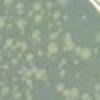white: (45, 43, 59, 56), (81, 47, 94, 60), (33, 68, 49, 78), (70, 87, 80, 100), (11, 87, 21, 99), (64, 33, 73, 46), (33, 14, 43, 25), (63, 88, 72, 100), (1, 86, 11, 96), (54, 83, 65, 92), (24, 71, 35, 80), (59, 69, 66, 82), (57, 59, 67, 68), (26, 80, 35, 89), (32, 30, 41, 39), (38, 8, 47, 17), (0, 16, 6, 29), (26, 53, 35, 61), (33, 3, 42, 11), (16, 9, 25, 17), (5, 38, 14, 46), (81, 92, 89, 100), (11, 58, 19, 66), (46, 1, 54, 9), (16, 2, 25, 9), (30, 65, 38, 72), (16, 51, 23, 59), (53, 10, 61, 17), (46, 23, 53, 31), (6, 24, 14, 31), (91, 84, 100, 90), (75, 74, 82, 81), (27, 10, 34, 17), (52, 32, 59, 39), (11, 77, 17, 85), (96, 31, 100, 42), (92, 46, 98, 53), (76, 47, 82, 54), (74, 58, 80, 65), (35, 50, 42, 56), (23, 87, 30, 93), (46, 12, 53, 18), (48, 34, 54, 41), (2, 64, 10, 69), (18, 26, 26, 31), (15, 21, 23, 26), (62, 15, 68, 21), (68, 45, 74, 51), (46, 81, 52, 87), (51, 57, 57, 63), (92, 91, 99, 96), (19, 40, 26, 45), (27, 94, 32, 100), (36, 37, 42, 42), (88, 96, 95, 100), (19, 32, 26, 36), (80, 13, 85, 18), (95, 95, 100, 100), (63, 47, 67, 52), (17, 70, 22, 74), (58, 28, 62, 33), (56, 22, 60, 26), (22, 45, 25, 50), (56, 28, 58, 29)
